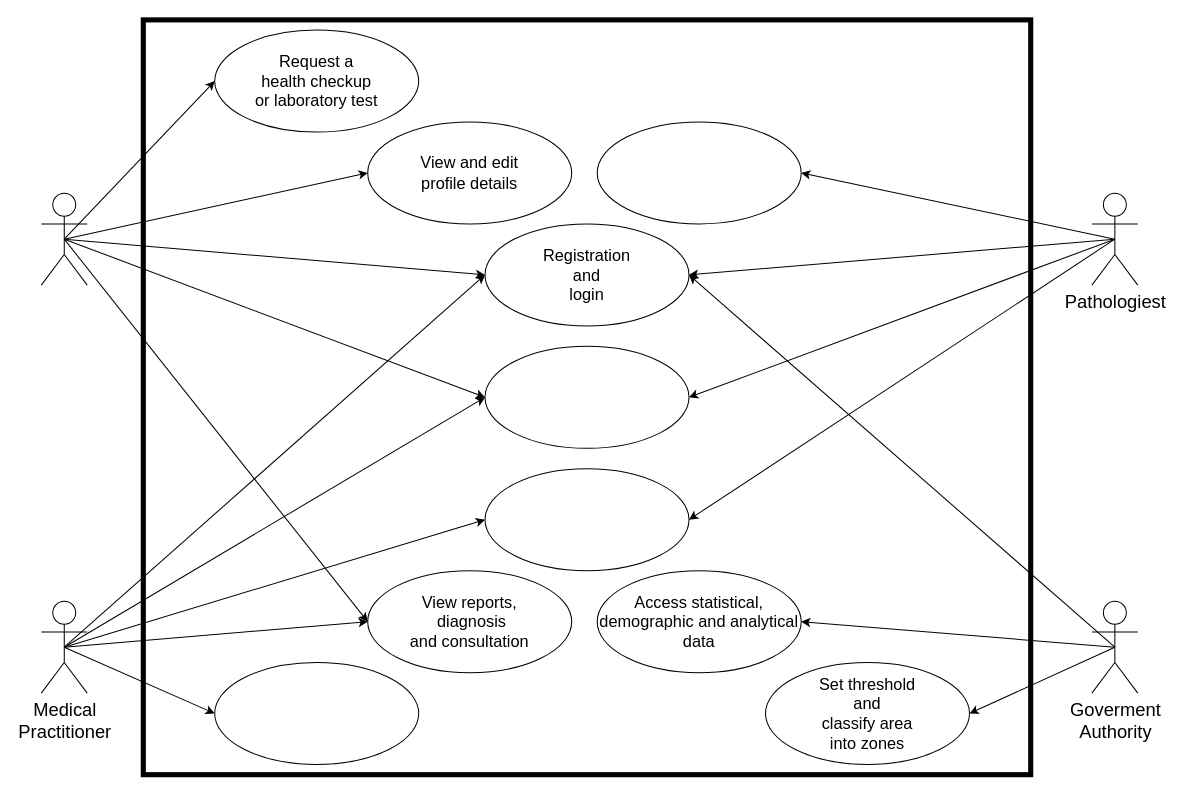
Some shapes in this 1183 by 795 pixel diagram are drawn without their labels. The shapes that lost their labels are listed below. From the top down, each one's centre as x and y in pixels, then its label:
pixel 698 172: Create report
pixel 63 238: Patient
pixel 586 396: Track request status and check request history
pixel 586 519: Accept request
pixel 316 712: Diagnose and provide consultation
